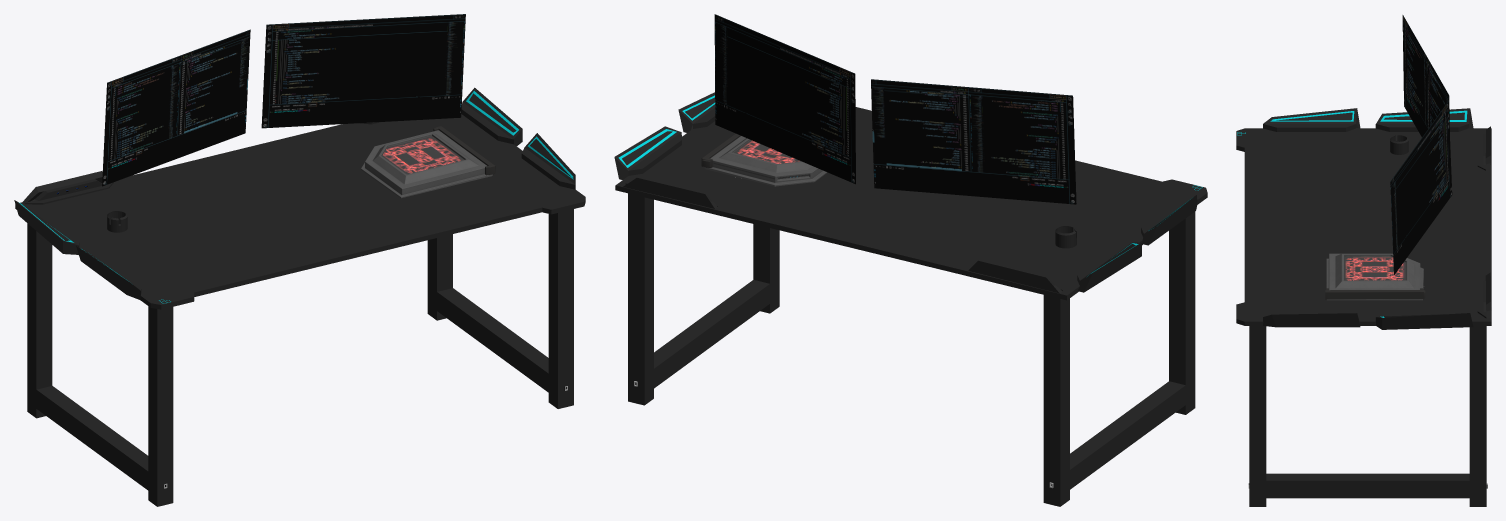
Rendered from table.fbx.
3 renders of one model, left to right at view 1: azimuth 30°, elevation 25°; view 2: azimuth 150°, elevation 25°; view 3: azimuth 270°, elevation 25°, orthographic. The views are drawn at different scales.
Visible parts, largest first — view 1: mesh_Material_0, Object_5, Object_5.001, Server_1; view 2: mesh_Material_0, Object_5.001, Object_5, Server_1; view 3: mesh_Material_0, Object_5, Server_1, Object_5.001.
Boxes of the visible parts, box(x1,y1,x2,y2) form: mesh_Material_0: box(14, 87, 585, 506); Object_5: box(261, 14, 465, 128); Object_5.001: box(102, 29, 250, 186); Server_1: box(361, 126, 495, 198); mesh_Material_0: box(614, 92, 1207, 506); Object_5.001: box(871, 79, 1076, 204); Object_5: box(714, 14, 855, 184); Server_1: box(701, 133, 827, 186); mesh_Material_0: box(1236, 108, 1491, 506); Object_5: box(1390, 101, 1452, 275); Server_1: box(1325, 253, 1425, 300); Object_5.001: box(1402, 15, 1449, 137).
Bounding box in the file's own units: 359 × 264 × 189.
Materials: 4 (4 with a texture image).
